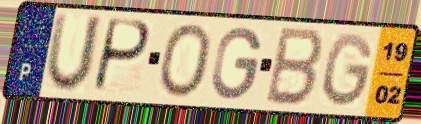B: (262, 24, 328, 110)
G: (320, 30, 376, 110), (209, 25, 264, 103)
O: (155, 21, 214, 100)
P: (89, 16, 154, 96)
U: (42, 10, 107, 96)
